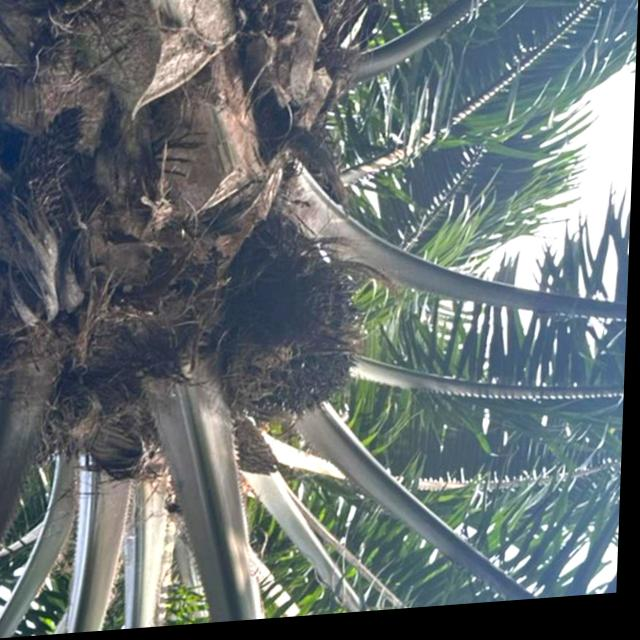unripe: (219, 253, 364, 429)
